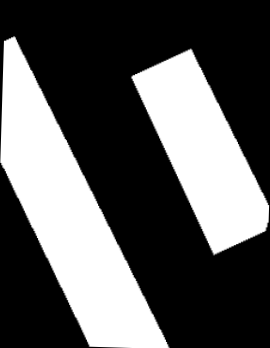parkingspot: (0, 36, 169, 348), (131, 49, 269, 255)
